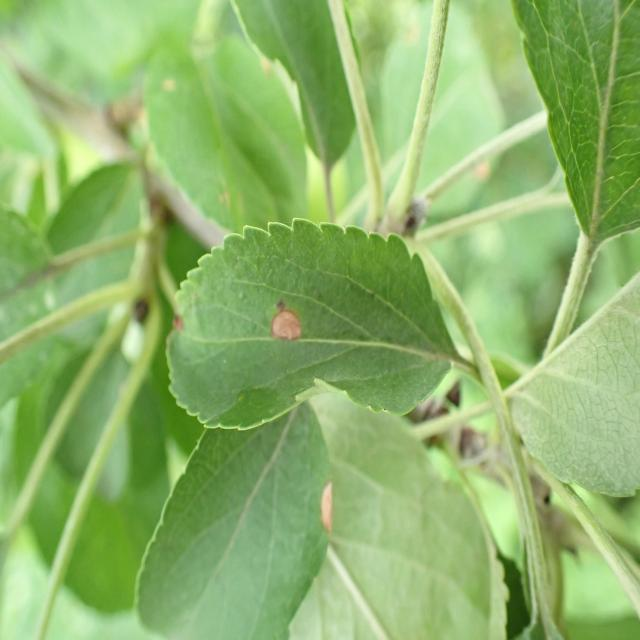Black Rot: (309, 456, 346, 548), (255, 300, 305, 353), (165, 305, 185, 350)
